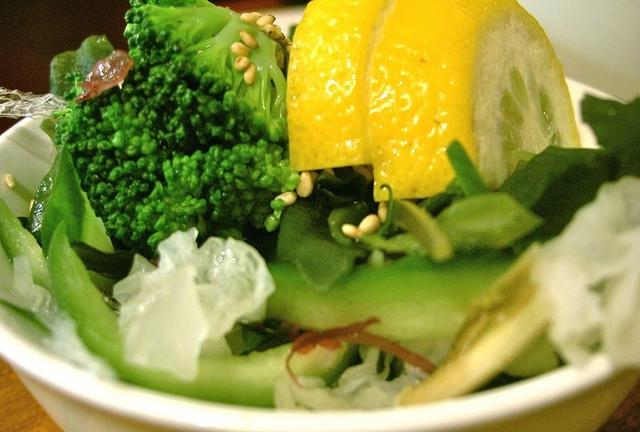bell pepper: (48, 218, 359, 408), (268, 249, 518, 340), (274, 188, 373, 292), (27, 142, 113, 250), (0, 199, 51, 292)
broccoli: (134, 13, 286, 158), (132, 144, 256, 255)
lemon: (366, 0, 584, 199), (286, 1, 392, 172)
